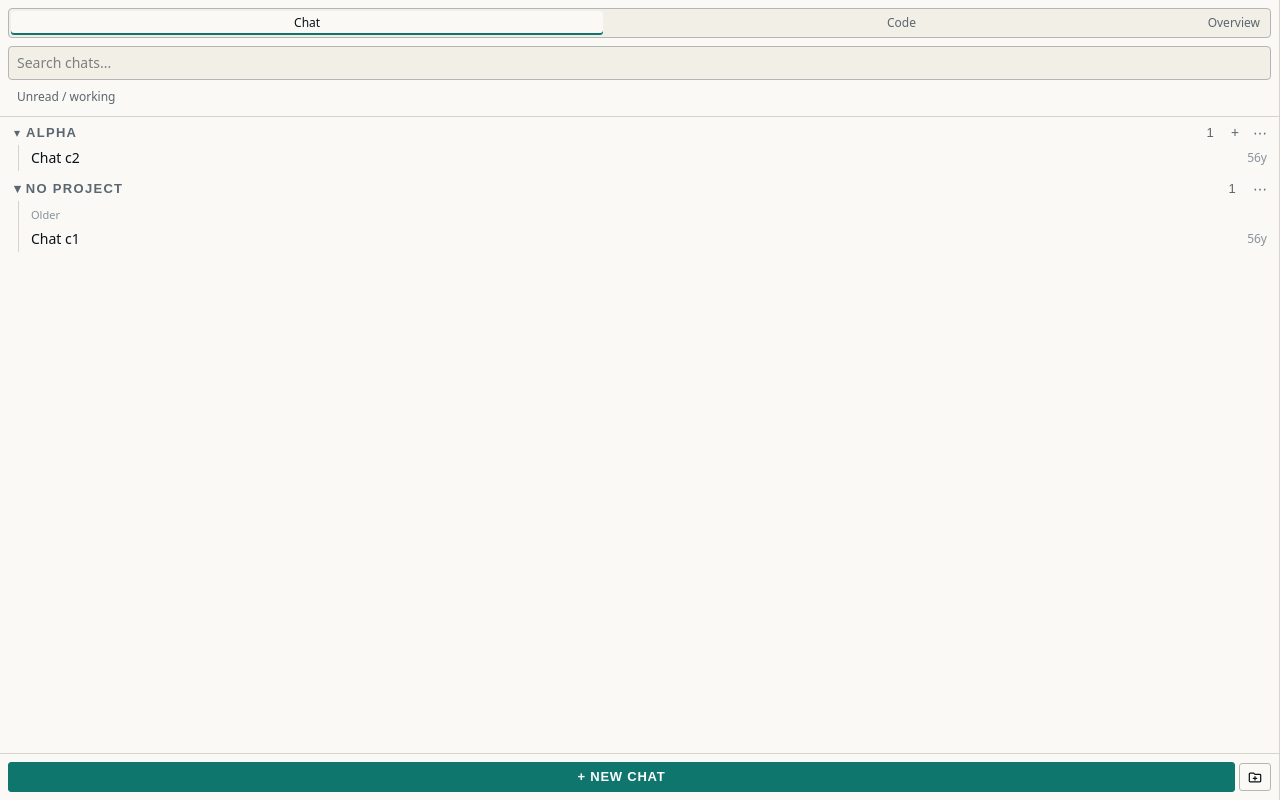
ChatList drag and drop › has no drop zone while searching
In the search field labelled "Search chats": (640, 63) top-left (8, 46), bottom-right (1271, 80), type "x"
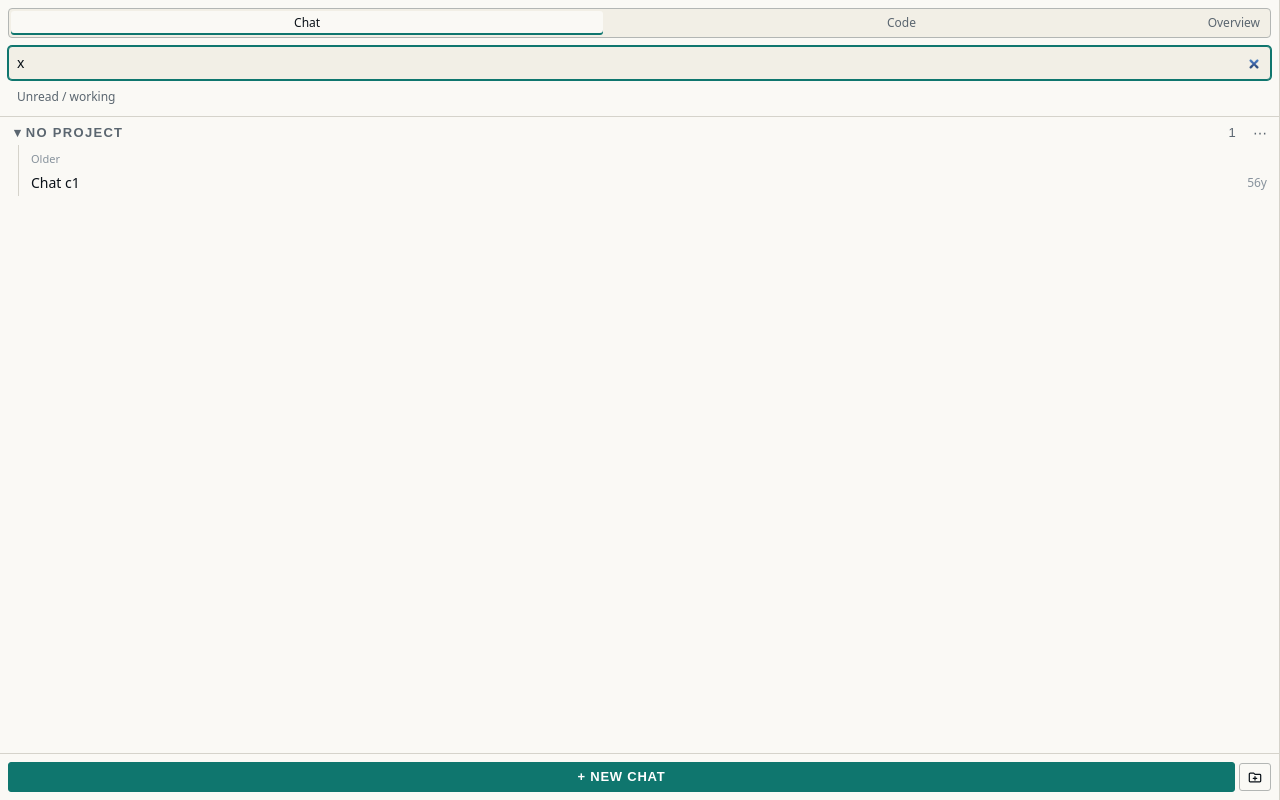
Check: the element with test id "group-p-a" is gone
